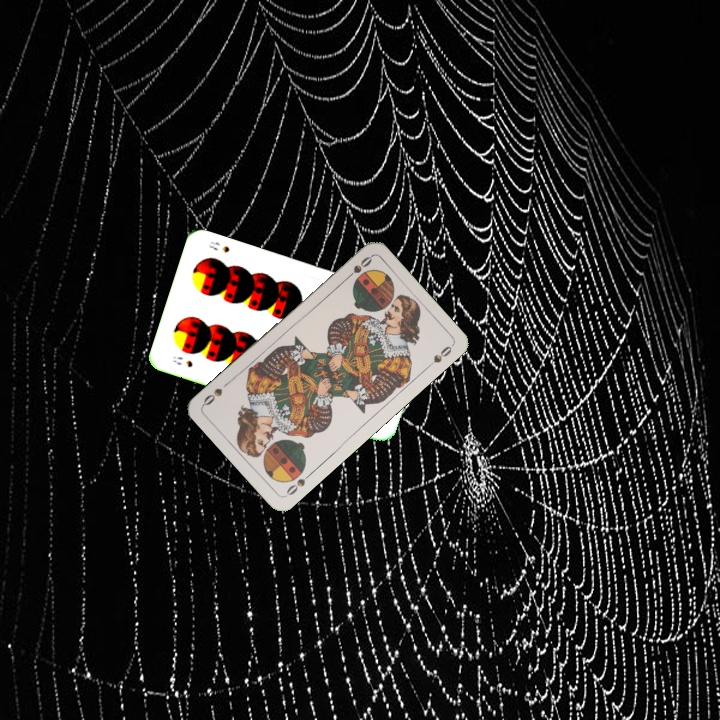S8: (169, 352, 195, 370)
SO: (281, 468, 315, 499), (341, 252, 374, 283)
